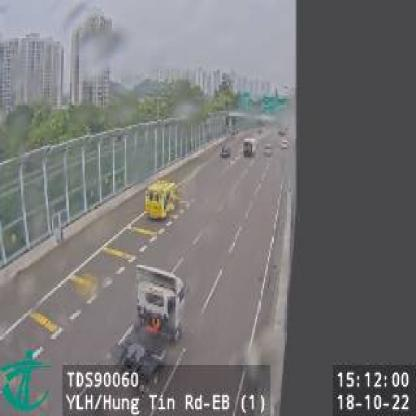Car: (145, 177, 178, 222), (220, 146, 231, 160), (263, 144, 273, 156), (280, 139, 290, 151)
Truck: (104, 264, 187, 402), (242, 136, 260, 157)
